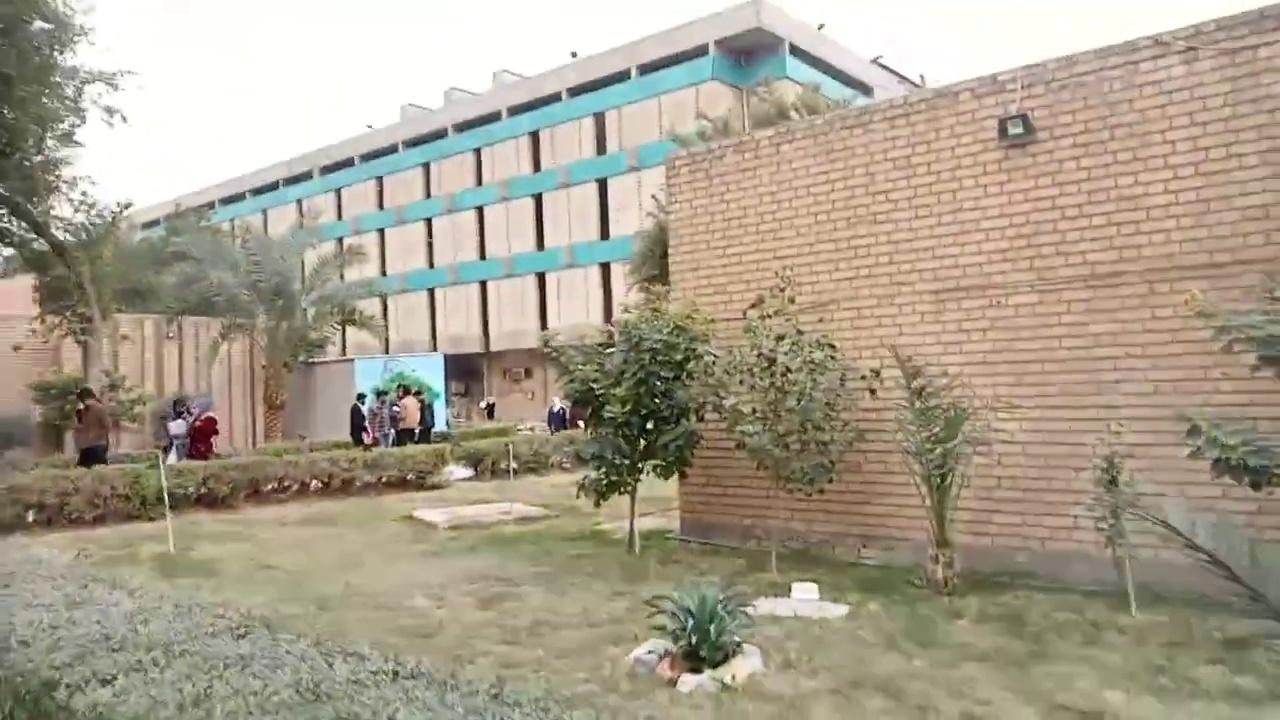person: (72, 385, 111, 468), (186, 396, 219, 460), (165, 405, 190, 463), (349, 392, 372, 450), (547, 395, 567, 435), (484, 399, 495, 420)
tree: (1, 0, 386, 457), (535, 193, 878, 556), (5, 530, 532, 720), (24, 197, 253, 453), (535, 280, 728, 555), (860, 338, 1031, 595), (1070, 424, 1276, 622), (705, 264, 879, 498), (205, 224, 386, 447), (0, 0, 139, 278), (110, 201, 259, 401), (1176, 274, 1279, 494), (624, 578, 762, 693), (299, 237, 387, 358), (1178, 412, 1278, 493), (367, 366, 440, 444), (622, 191, 671, 298), (25, 366, 81, 457)
